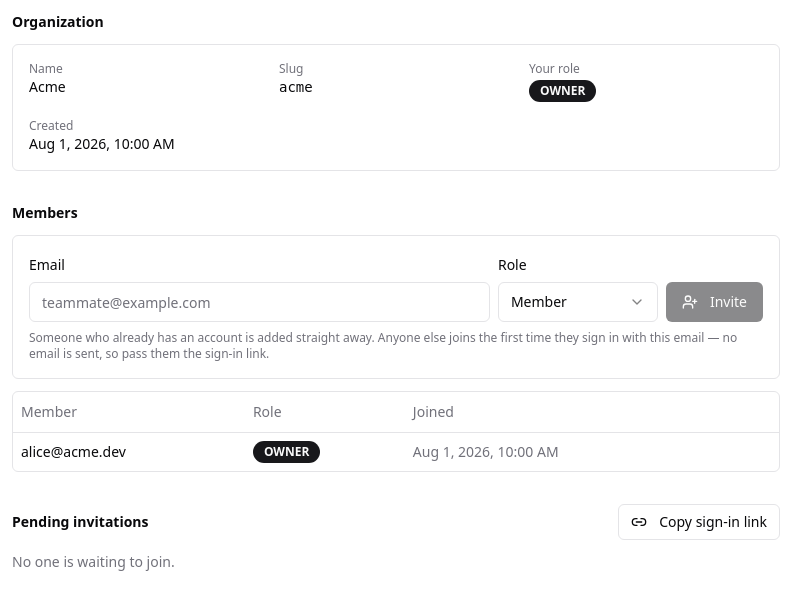
Test case: OrganizationTab invitations › shows a duplicate-invitation conflict inline
Check: the text "No one is waiting to join." is shown, box 12,552 -> 175,570
Type "dana@acme.dev" into the field with test id "member-email".
click(259, 302); type("dana@acme.dev")  # box 29,282 -> 490,322
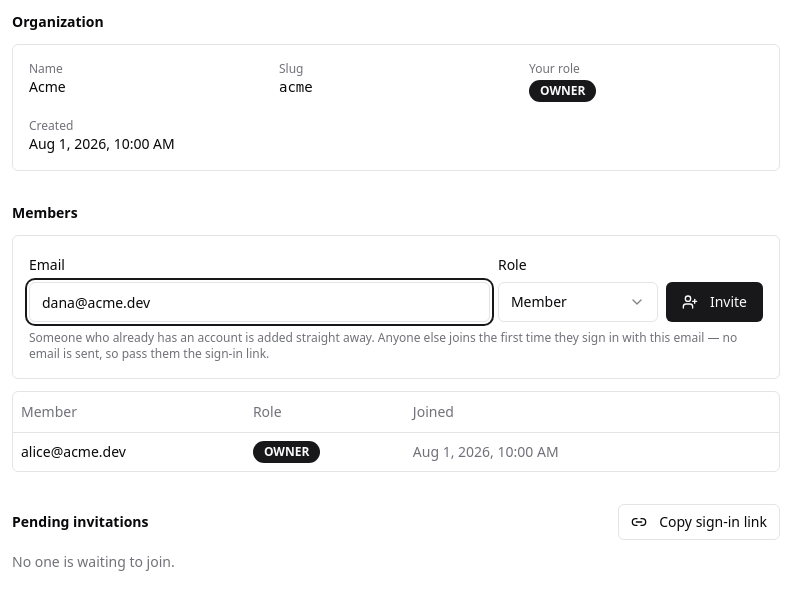
Click the button with test id "member-invite".
click(714, 302)  # box 666,282 -> 763,322
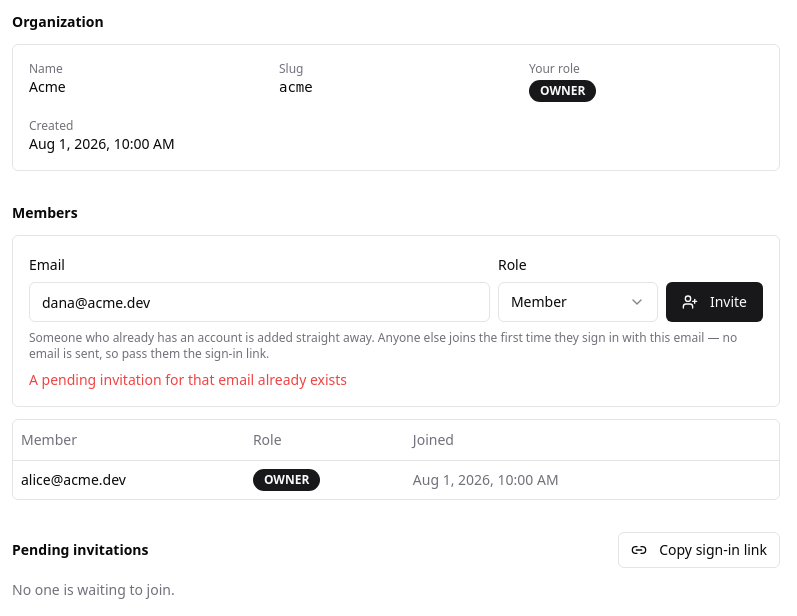
Check: the message with test id "member-invite-error" shows "already exists", box 29,370 -> 347,389
